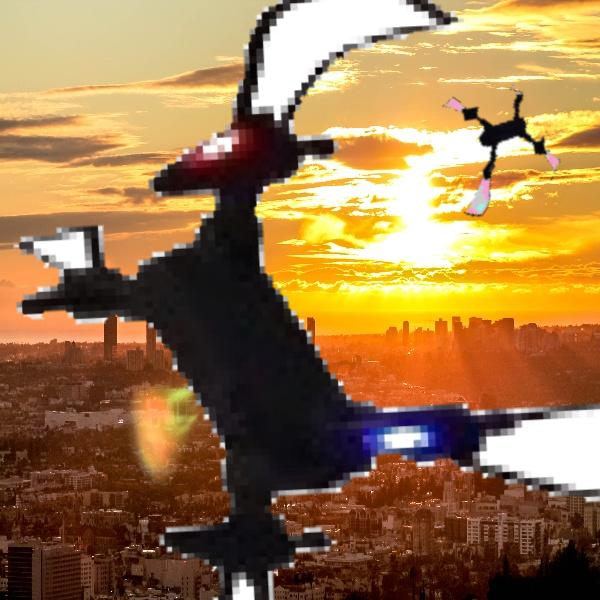drone: (420, 77, 569, 226)
